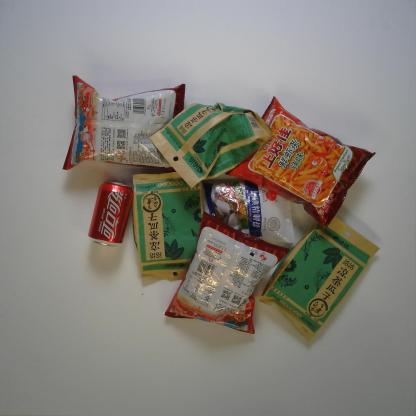Dried Food: (258, 213, 380, 342), (148, 102, 274, 190), (131, 170, 206, 282)
Drink: (88, 179, 134, 249)
Puffed Food: (224, 94, 378, 232), (163, 212, 290, 334), (61, 74, 186, 172)
Seasoner: (203, 180, 295, 244)
